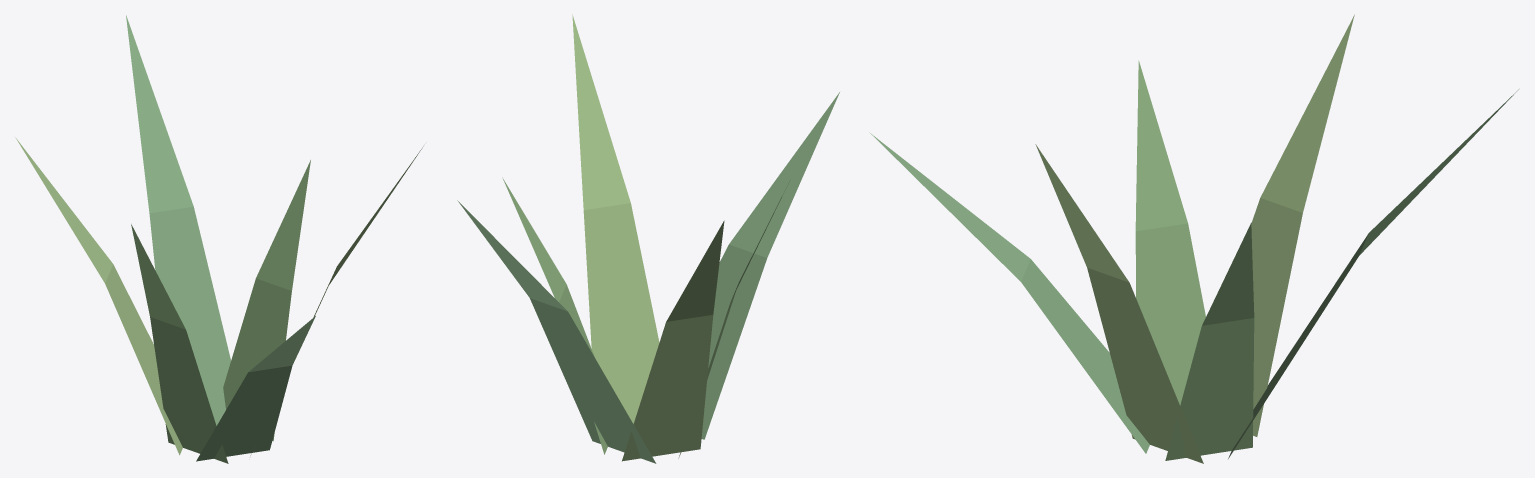
File: tuft_1.gltf
3 views of the same model, side by side, from view 1: azimuth 30°, elevation 25°; view 2: azimuth 150°, elevation 25°; view 3: azimuth 270°, elevation 25° (orthographic). The views are drawn at different scales.
Visible parts, largest first — view 1: tuft_1; view 2: tuft_1; view 3: tuft_1.
Boxes of the visible parts, box(x1,y1,x2,y2) form: tuft_1: box(15, 15, 423, 463); tuft_1: box(457, 14, 839, 463); tuft_1: box(869, 14, 1518, 463).
Size of the model in its own units: 0.3671 by 0.4 by 0.6301.
